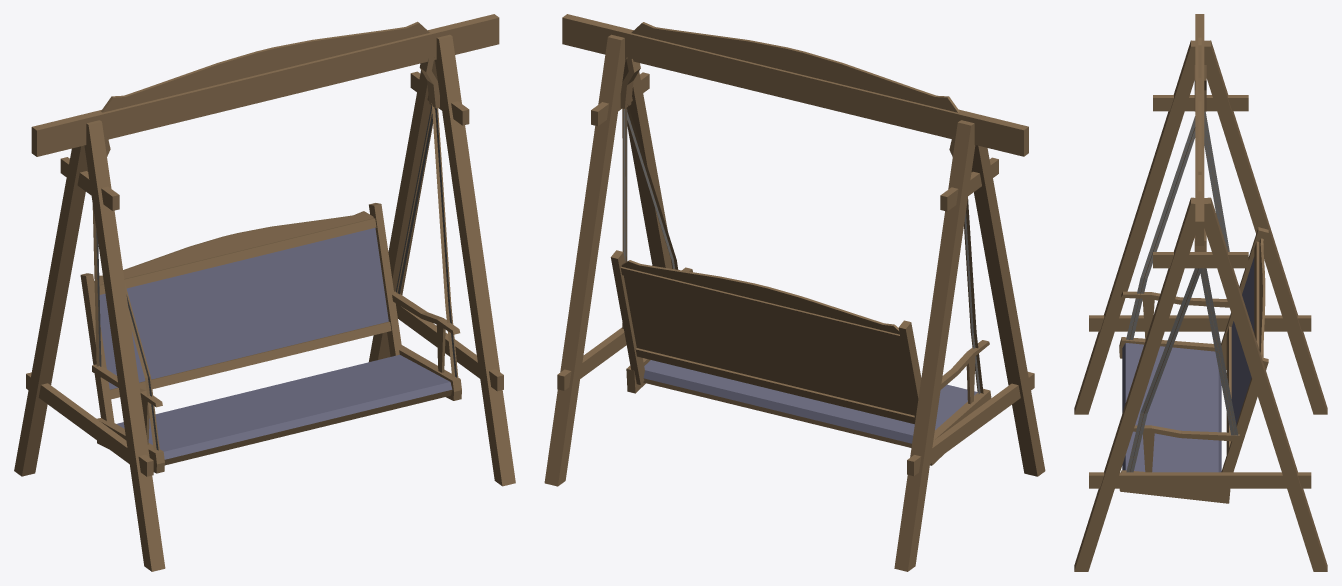
The model's file is SwingingSofa.fbx.
3 renders of one model, left to right at view 1: azimuth 30°, elevation 25°; view 2: azimuth 150°, elevation 25°; view 3: azimuth 270°, elevation 25°, orthographic. The views are drawn at different scales.
Visible parts, largest first — view 1: SwingingSofa; view 2: SwingingSofa; view 3: SwingingSofa.
Boxes of the visible parts, x1,y1,x2,y2 form: SwingingSofa: [14, 14, 515, 571]; SwingingSofa: [544, 14, 1045, 571]; SwingingSofa: [1074, 14, 1327, 571].
Size of the model in its own units: 3.44 by 3.04 by 1.78.
